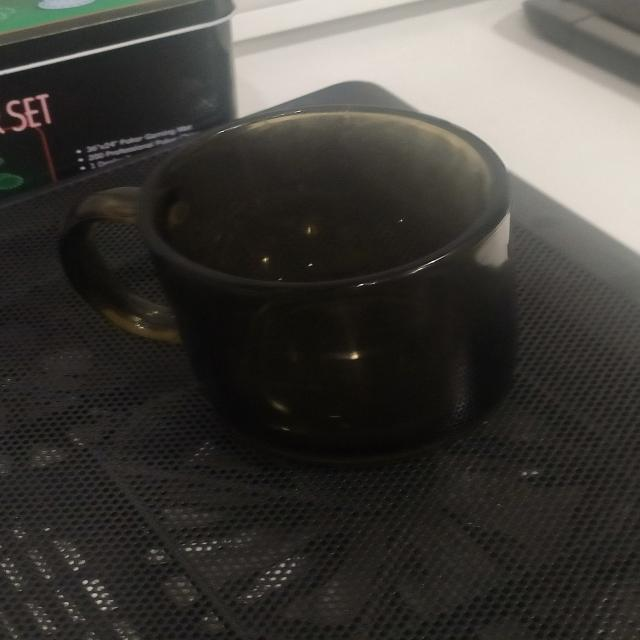cups: (55, 106, 515, 459)
